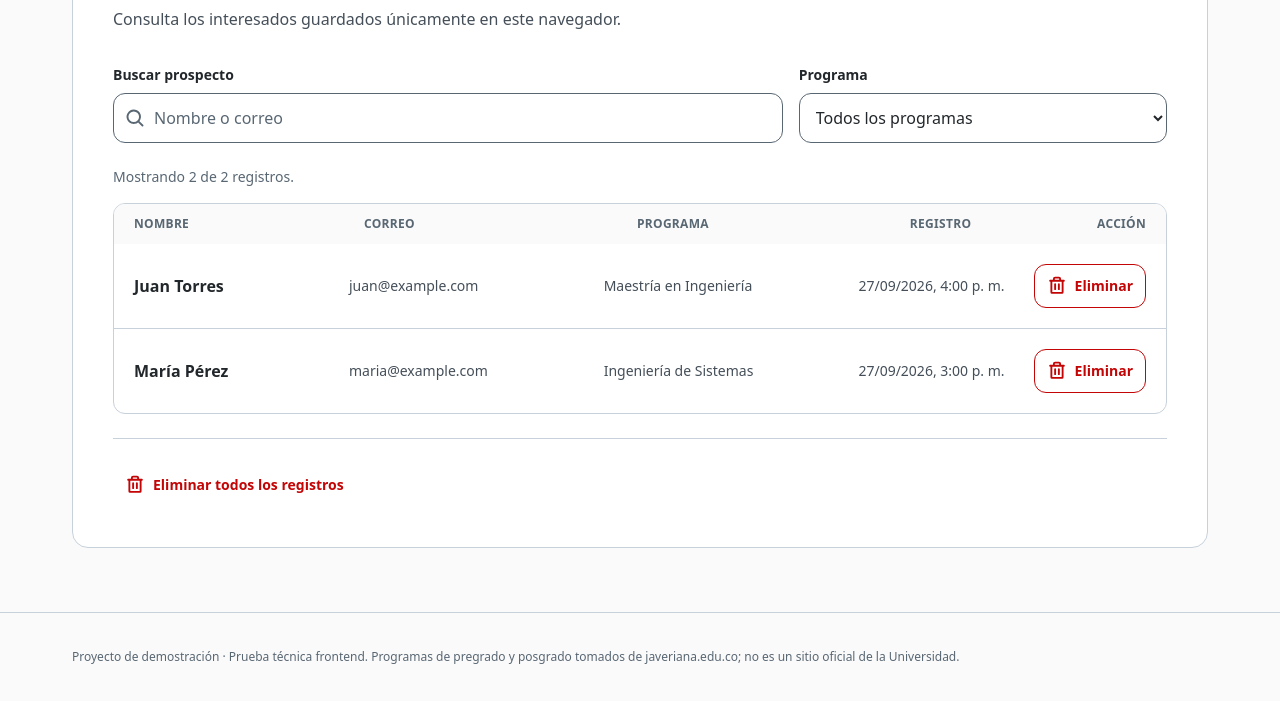
Test case: panel de prospectos › permite cancelar o confirmar la eliminación total
The width and height of the screenshot is (1280, 701).
(page scrolled)
Click the button "Eliminar todos los registros".
click(234, 484)  # box [113,462,356,506]
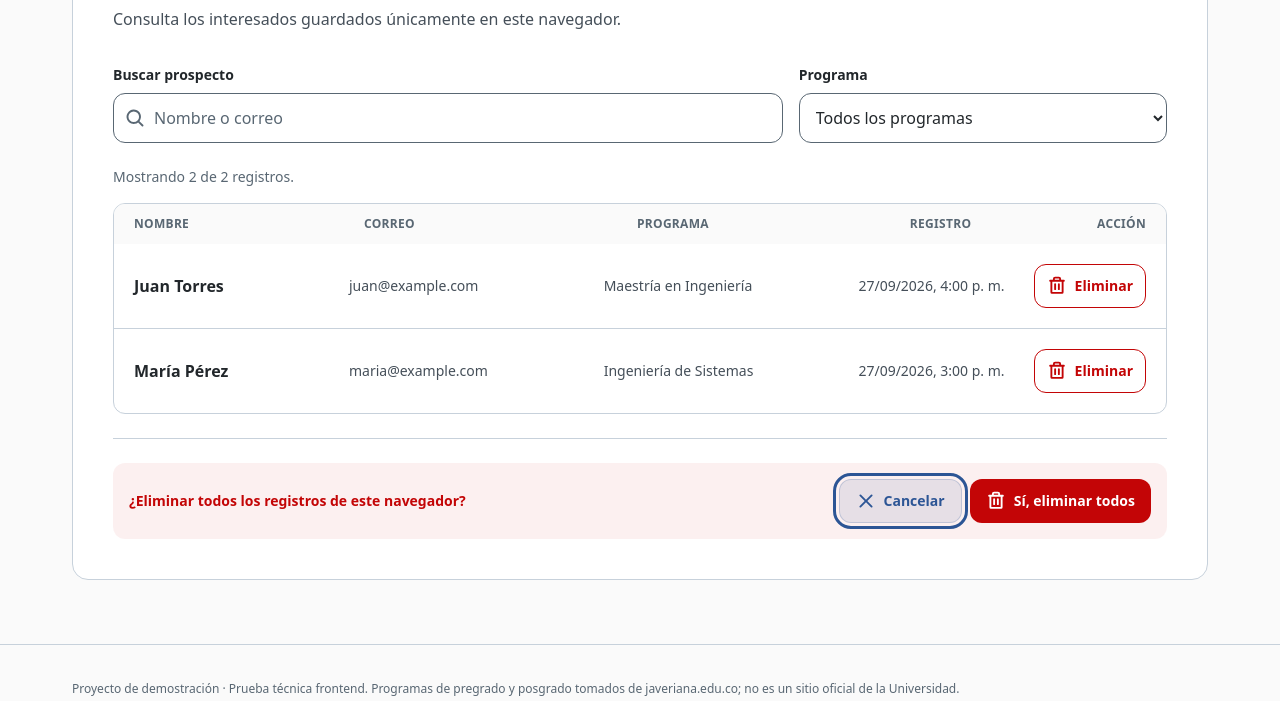
Click the button "Cancelar".
click(900, 500)  # box [838,478,962,522]
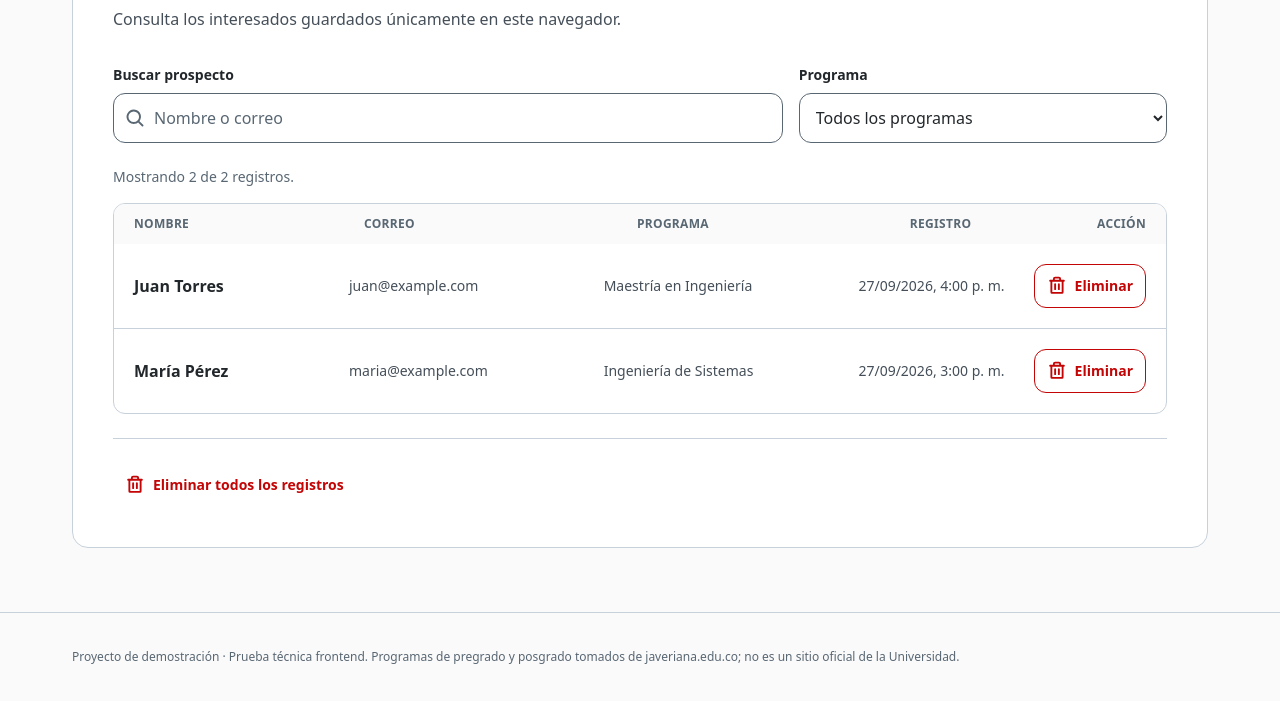
Click the button "Eliminar todos los registros".
click(234, 484)  # box [113,462,356,506]
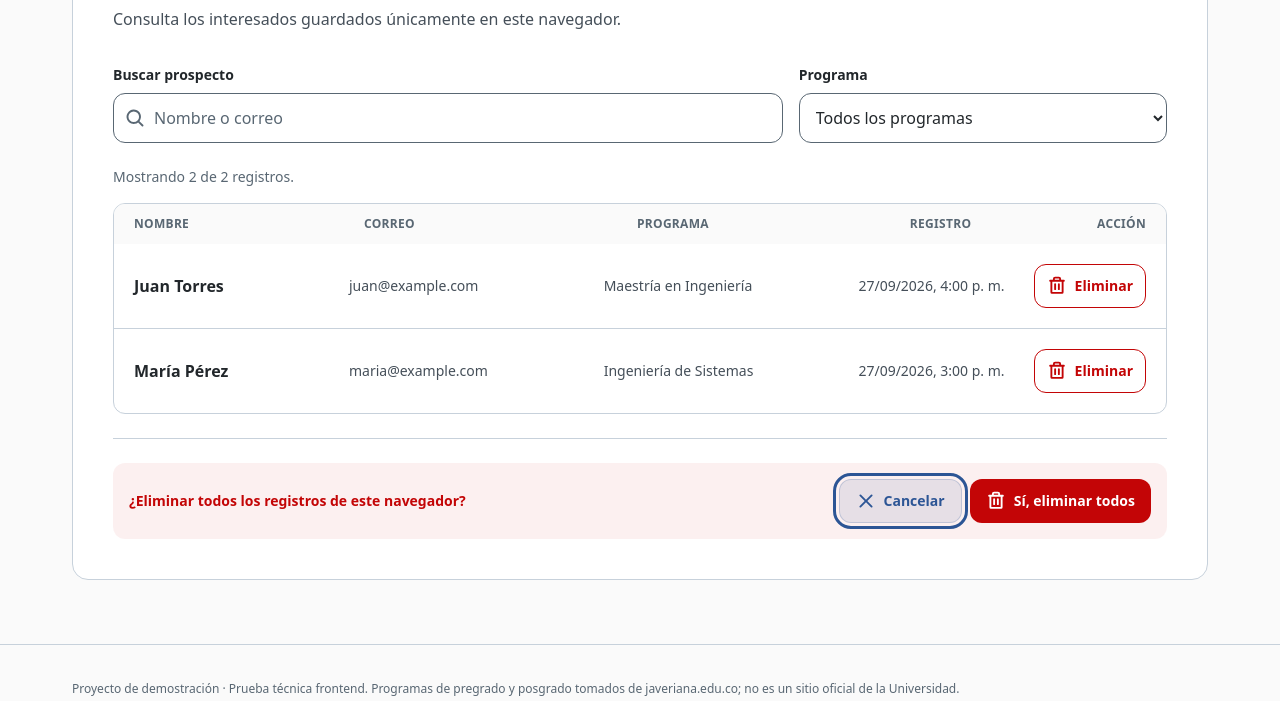
Click the button "Sí, eliminar todos".
click(1060, 500)  # box [970,478,1151,522]
(page scrolled)
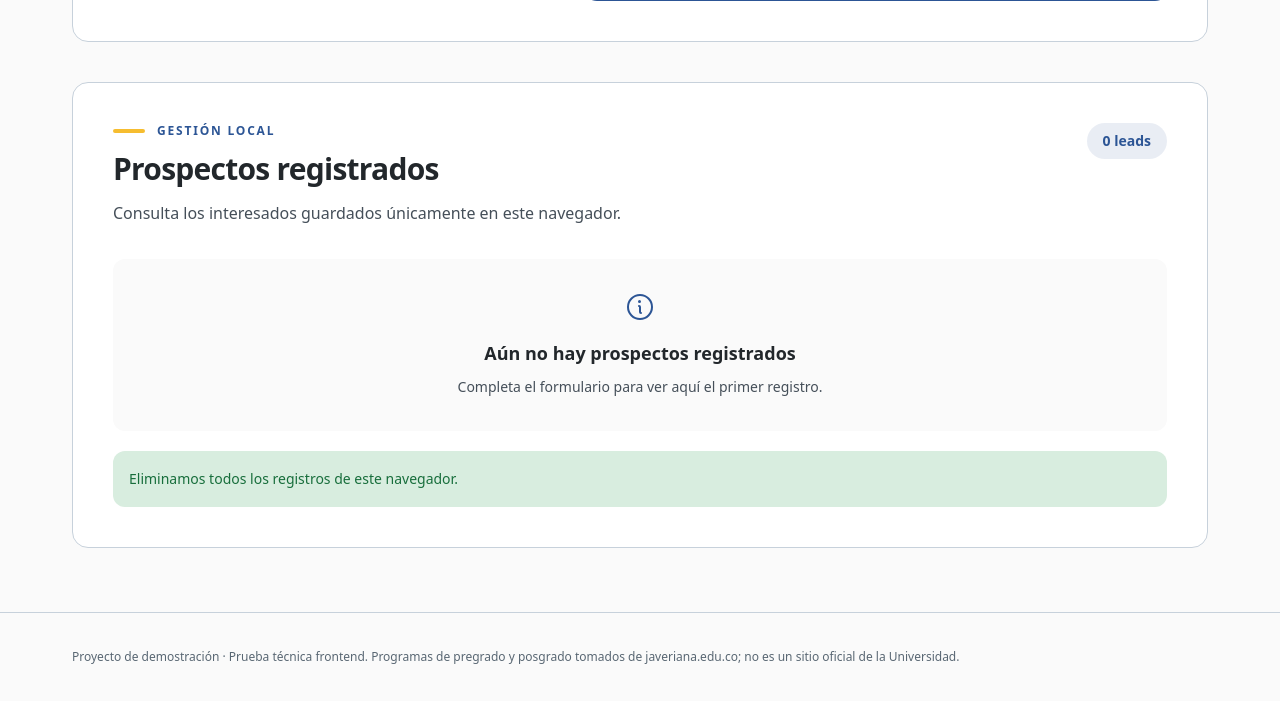
Expected: the heading "Aún no hay prospectos registrados" is shown, [484,340,796,364]
Expected: the text "Eliminamos todos los registros de este navegador." is shown, [113,450,1167,506]
